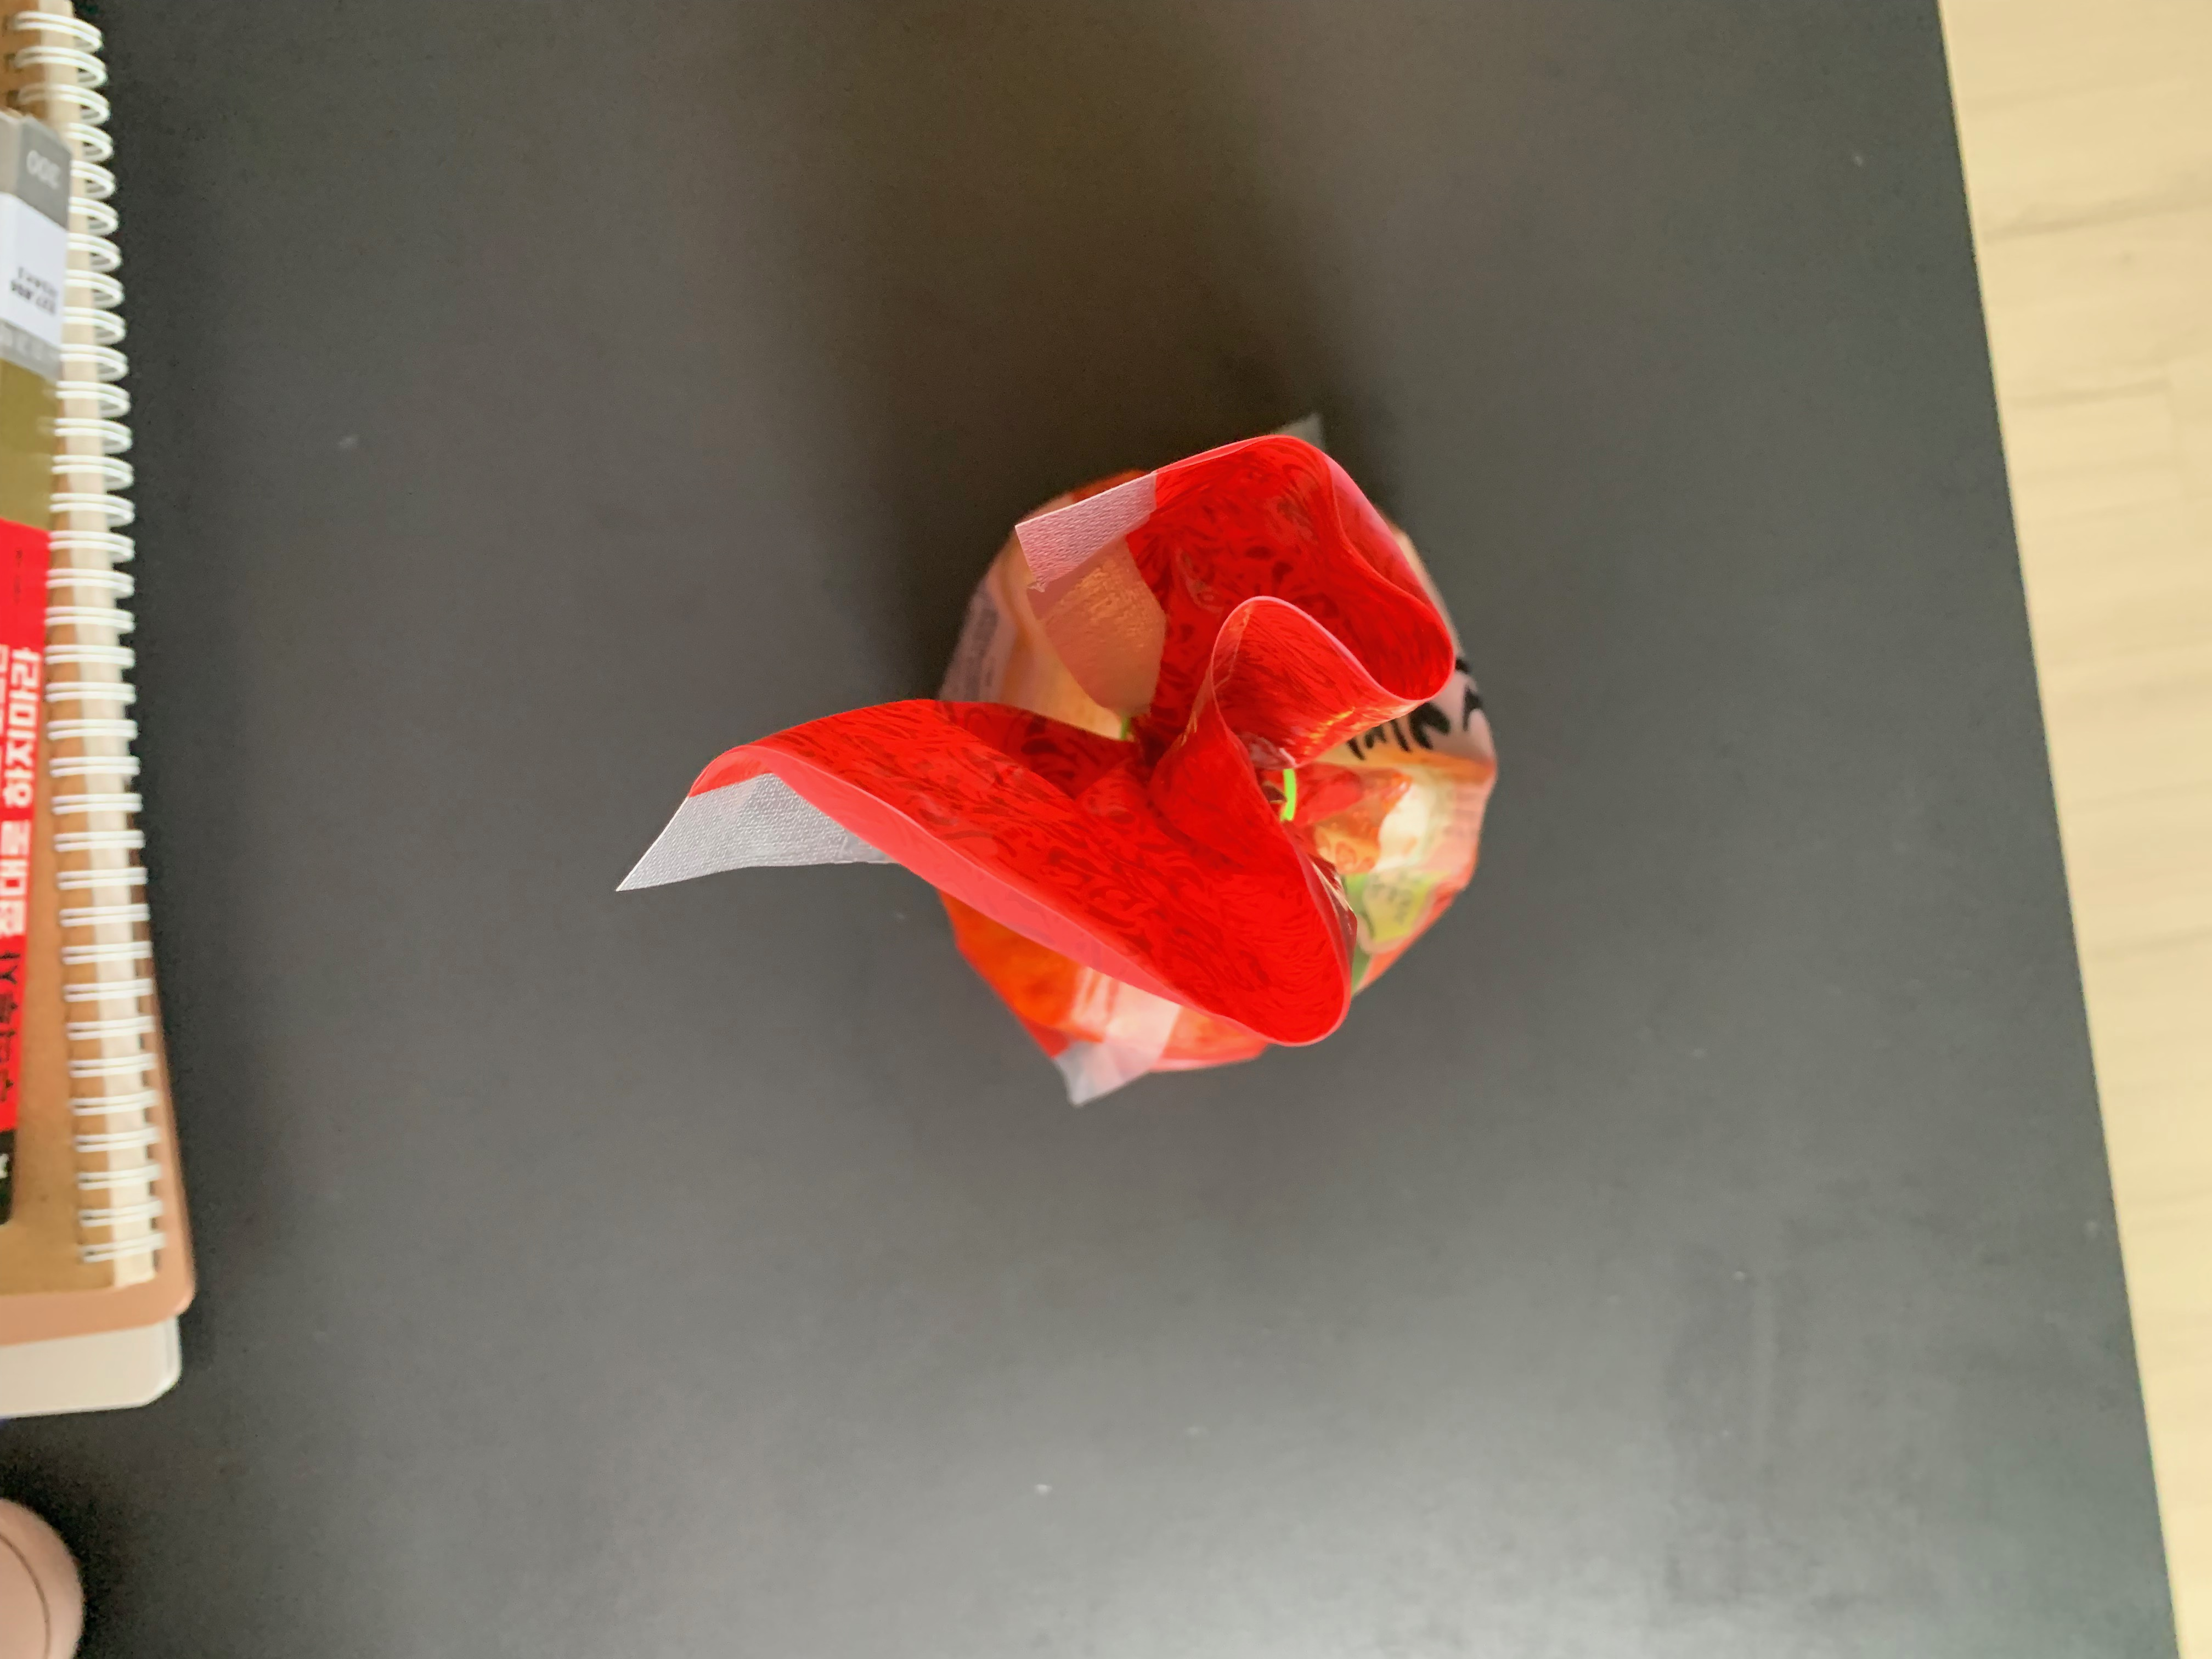kimchi: (740, 437, 1501, 1068)
